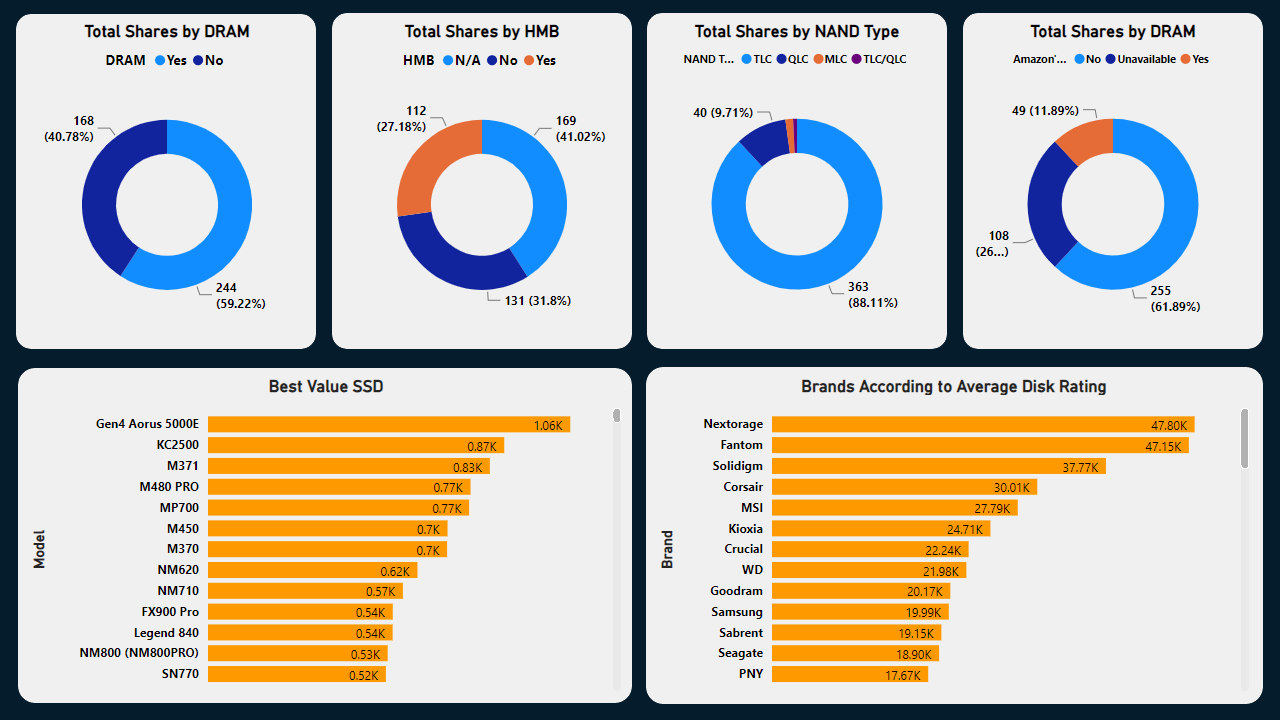

Layout of this report page (visuals, bound fields, positions):
{"tool":"powerbi","page":{"name":"P2","canvas":[1280,720],"ordinal":2},"visuals":[{"type":"shape","box":[963.3,13.3,300,335.6],"z":0},{"type":"shape","box":[646.7,13.3,300,335.6],"z":1000},{"type":"shape","box":[16.4,13.6,300,335],"z":2000},{"type":"shape","box":[646.3,367.4,616.2,336.3],"z":3000},{"type":"shape","box":[17.8,367.8,614.4,335.6],"z":4000},{"type":"donutChart","title":"Total Shares by DRAM","fields":{"Y":["CountNonNull(ssddb ssd.Brand)"],"Category":["ssddb ssd.DRAM"]},"box":[26.7,21.1,280,320],"z":5000},{"type":"shape","box":[332.2,13.3,300,335.6],"z":6000},{"type":"donutChart","title":"Total Shares by HMB","fields":{"Y":["CountNonNull(ssddb ssd.Brand)"],"Category":["ssddb ssd.HMB"]},"box":[342.2,21.1,280,320],"z":7000},{"type":"donutChart","title":"Total Shares by NAND Type","fields":{"Y":["CountNonNull(ssddb ssd.Brand)"],"Category":["ssddb ssd.NANDType"]},"box":[656.7,21.1,280,320],"z":8000},{"type":"donutChart","title":"Total Shares by DRAM","fields":{"Y":["CountNonNull(ssddb ssd.Brand)"],"Category":["ssddb ssd.AmazonsChoice"]},"box":[973.3,21.1,280,320],"z":9000},{"type":"clusteredBarChart","title":"Best Value SSD","fields":{"Category":["ssddb ssd.Model"],"Y":["Calcs.PricetoPerformance"]},"box":[25.6,375.6,600,320],"z":10000},{"type":"clusteredBarChart","title":"Brands According to Average Disk Rating","fields":{"Category":["ssddb ssd.Brand"],"Y":["Avg(ssddb ssd.DiskRating)"]},"box":[654.4,375.6,600,320],"z":11000}]}

Visuals, with their boxes in screenshot pixels (x1, y1, x2, y2), scaled from the page's 1280x720 canvas onto the 1280x720 screenshot:
shape: [x1=963, y1=13, x2=1263, y2=349]
shape: [x1=647, y1=13, x2=947, y2=349]
shape: [x1=16, y1=14, x2=316, y2=349]
shape: [x1=646, y1=367, x2=1262, y2=704]
shape: [x1=18, y1=368, x2=632, y2=703]
"Total Shares by DRAM" donutChart: [x1=27, y1=21, x2=307, y2=341]
shape: [x1=332, y1=13, x2=632, y2=349]
"Total Shares by HMB" donutChart: [x1=342, y1=21, x2=622, y2=341]
"Total Shares by NAND Type" donutChart: [x1=657, y1=21, x2=937, y2=341]
"Total Shares by DRAM" donutChart: [x1=973, y1=21, x2=1253, y2=341]
"Best Value SSD" clusteredBarChart: [x1=26, y1=376, x2=626, y2=696]
"Brands According to Average Disk Rating" clusteredBarChart: [x1=654, y1=376, x2=1254, y2=696]
